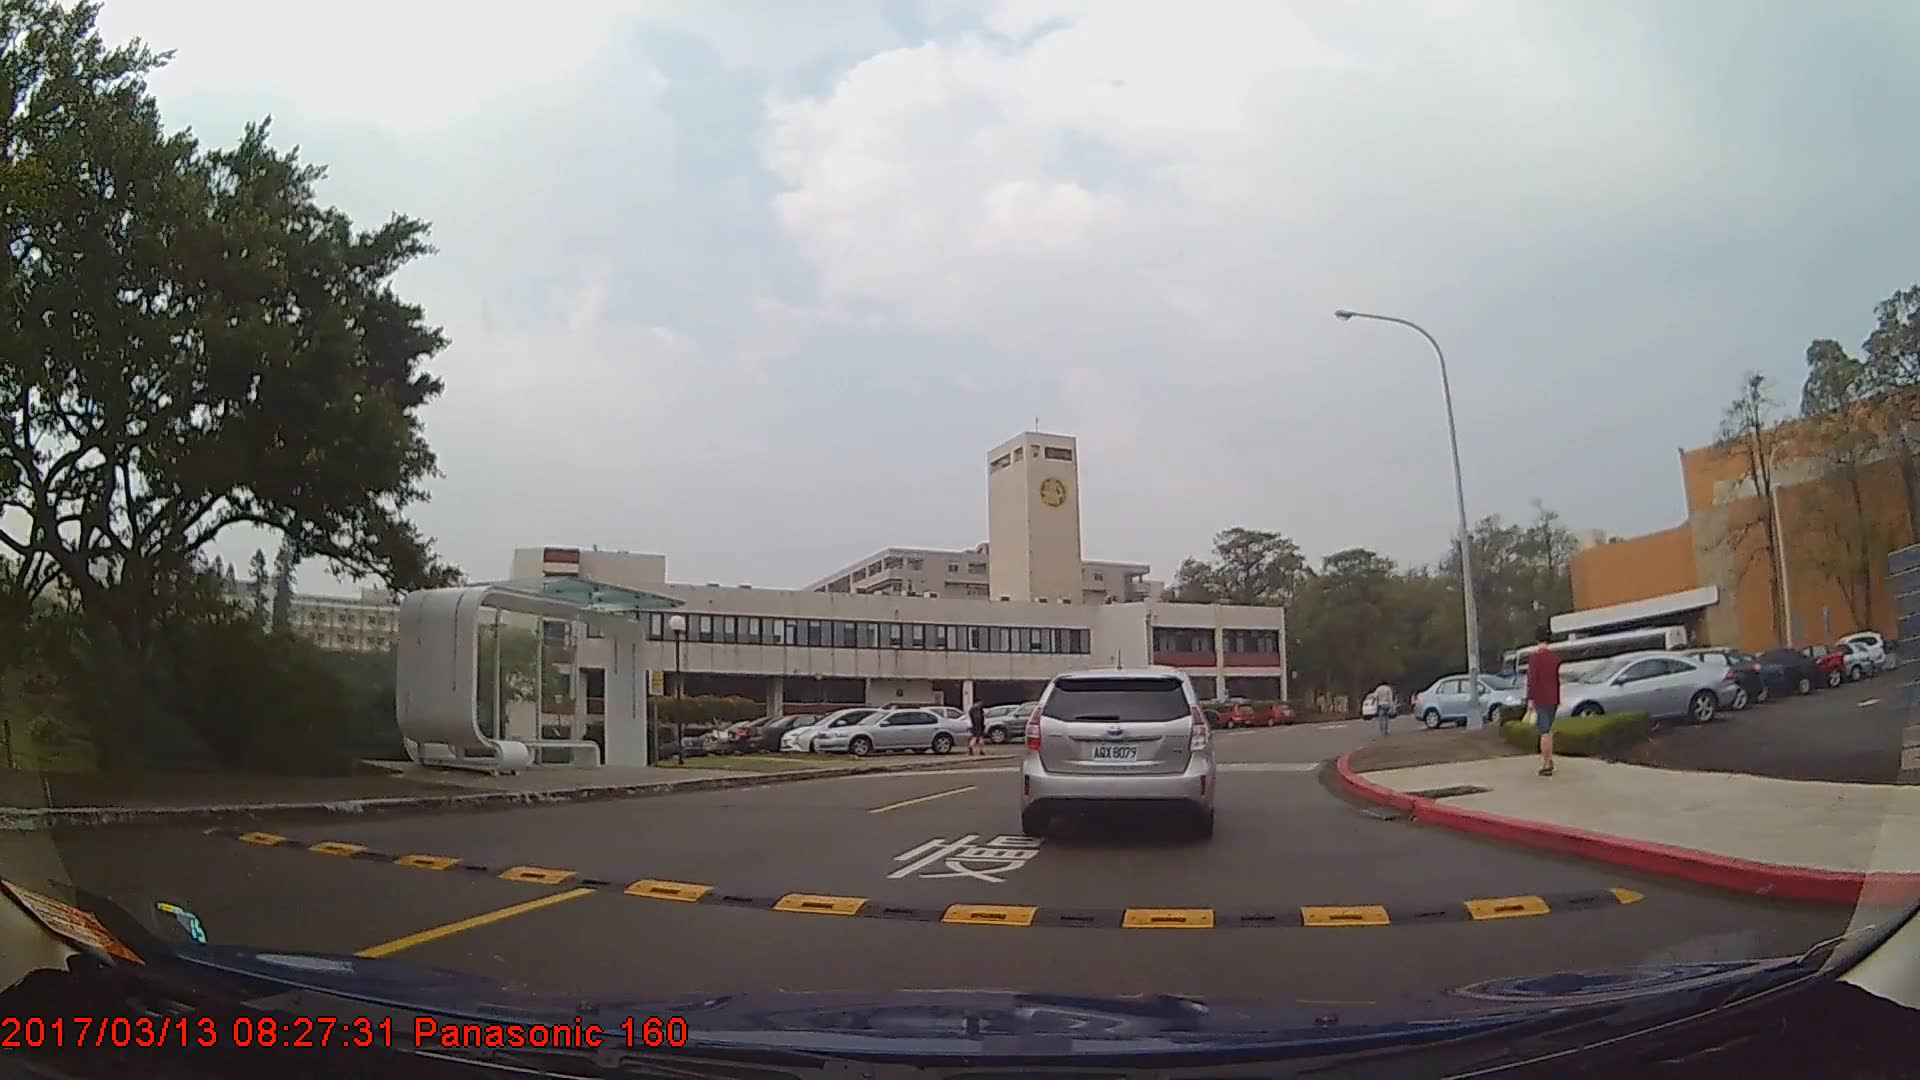pedestrian: (1519, 623, 1566, 773), (1372, 674, 1396, 737), (968, 698, 988, 755)
vehicle: (1026, 665, 1213, 837), (1540, 649, 1734, 727), (813, 705, 971, 756), (772, 702, 917, 749), (1408, 673, 1530, 726), (1676, 650, 1785, 701), (1715, 645, 1819, 696), (974, 698, 1081, 741), (747, 711, 851, 751)
